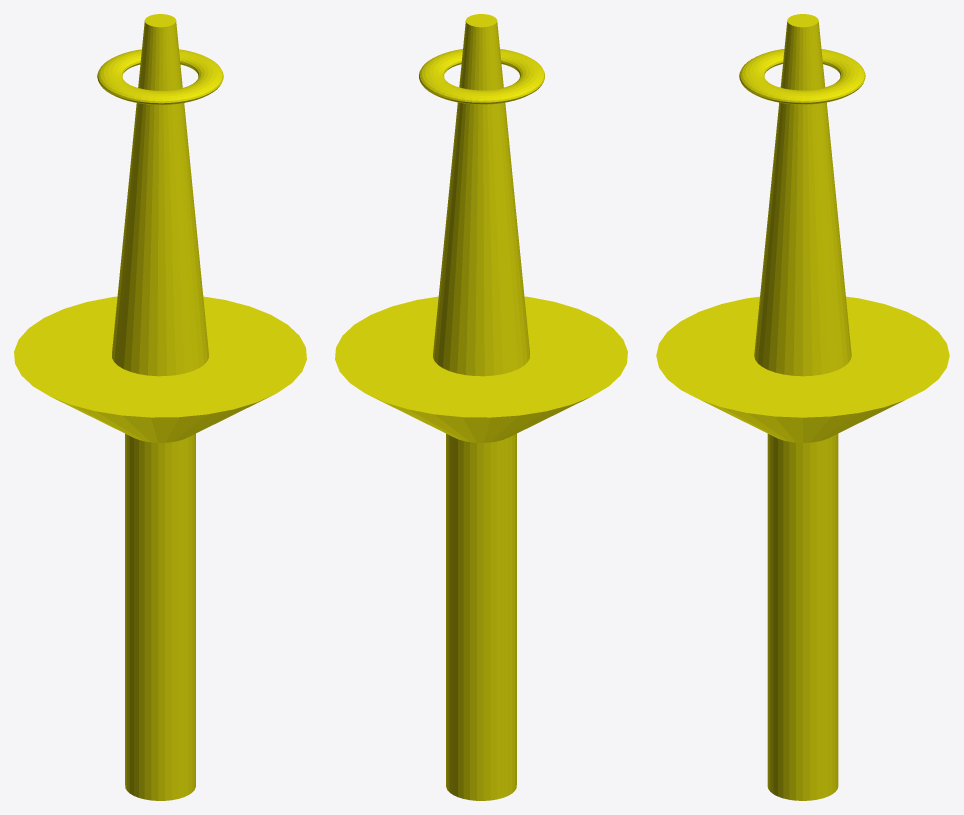
3 views of the same model, side by side, from view 1: azimuth 30°, elevation 25°; view 2: azimuth 150°, elevation 25°; view 3: azimuth 270°, elevation 25° (orthographic).
Visible parts, largest first — view 1: Cylinder.007; view 2: Cylinder.007; view 3: Cylinder.007.
Part boxes in pixels (x1,y1,x2,y2): Cylinder.007: (14, 14, 306, 800); Cylinder.007: (335, 14, 627, 800); Cylinder.007: (656, 14, 949, 800).
Bounding box in the file's own units: 828 × 2383 × 828.
